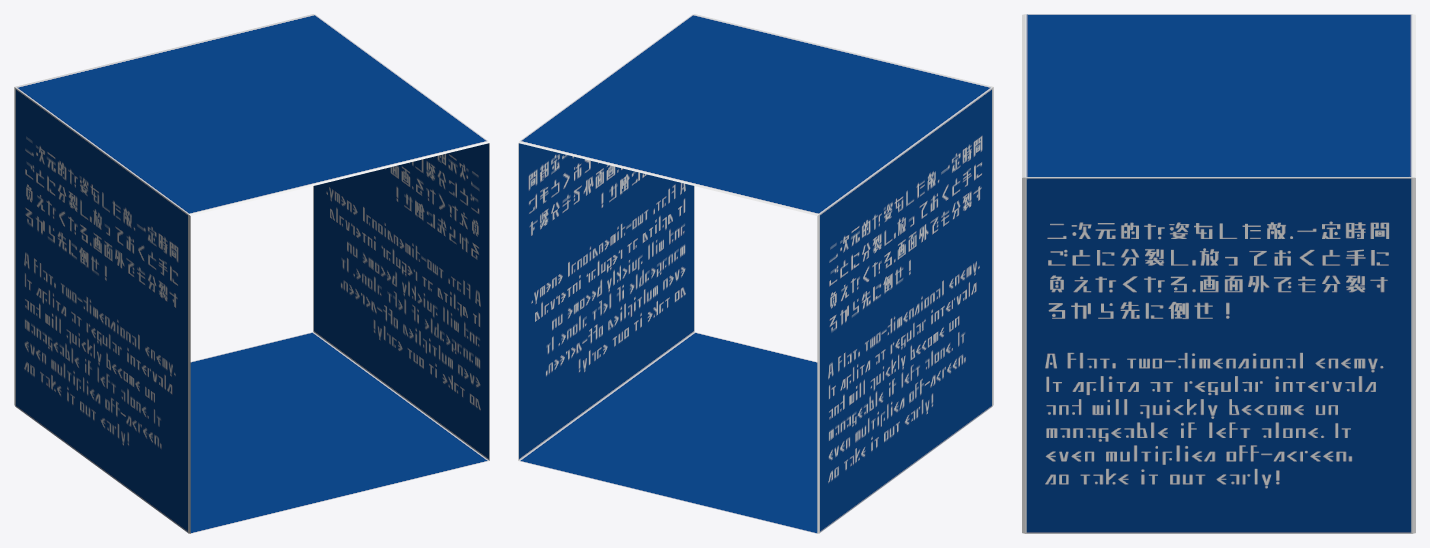
File: enemyInformation 1.fbx
3 views of the same model, side by side, from view 1: azimuth 30°, elevation 25°; view 2: azimuth 150°, elevation 25°; view 3: azimuth 270°, elevation 25° (orthographic). The views are drawn at different scales.
Parts seen in each view (by area): view 1: Cube; view 2: Cube; view 3: Cube.
Part boxes in pixels (x1,y1,x2,y2): Cube: [14, 14, 489, 533]; Cube: [518, 14, 993, 533]; Cube: [1022, 14, 1415, 533].
Size of the model in its own units: 200 by 203 by 204.
Materials: 1 (1 with a texture image).
